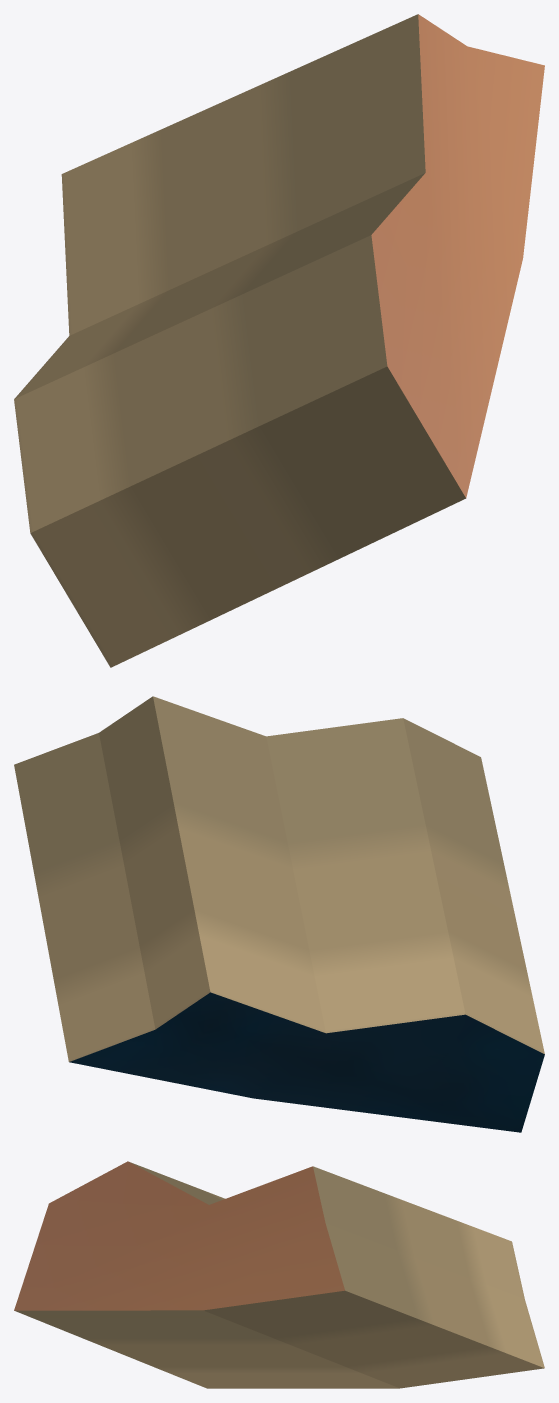
File: 0691_Armenia.glb
The picture shows the model from 3 angles, top to bottom: view 1: azimuth 30°, elevation 25°; view 2: azimuth 150°, elevation 25°; view 3: azimuth 270°, elevation 25°; orthographic projection. The views are drawn at different scales.
Parts seen in each view (by area): view 1: part_0; view 2: part_0; view 3: part_0.
Boxes of the visible parts, left/top/right/bottom form: part_0: left=14, top=14, right=544, bottom=667; part_0: left=14, top=696, right=544, bottom=1132; part_0: left=14, top=1161, right=544, bottom=1388.
Bounding box in the file's own units: 0.3058 × 0.2512 × 0.3422.
1 material, 1 textured.
